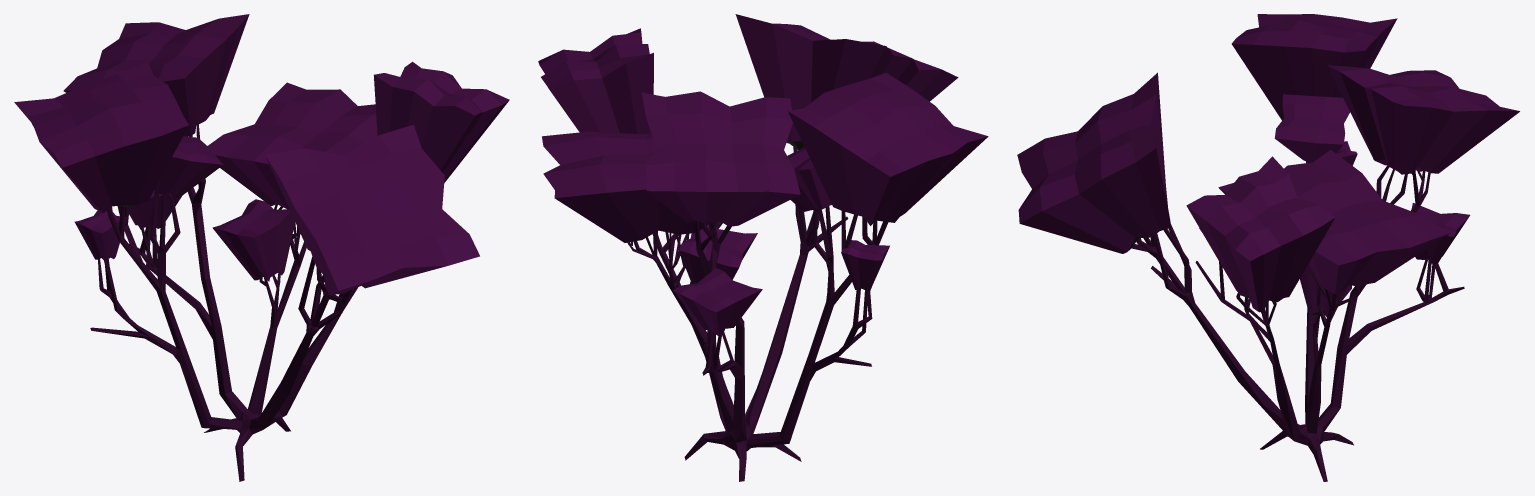
File: SM_Tree_02.glb
3 views of the same model, side by side, from view 1: azimuth 30°, elevation 25°; view 2: azimuth 150°, elevation 25°; view 3: azimuth 270°, elevation 25° (orthographic). The views are drawn at different scales.
Parts seen in each view (by area): view 1: SM_Tree_02; view 2: SM_Tree_02; view 3: SM_Tree_02.
Part boxes in pixels (x1,y1,x2,y2): SM_Tree_02: (14, 14, 509, 481); SM_Tree_02: (538, 14, 988, 481); SM_Tree_02: (1017, 14, 1519, 481).
Bounding box in the file's own units: 1.86 × 1.58 × 1.88.
Materials: 1 (1 with a texture image).
